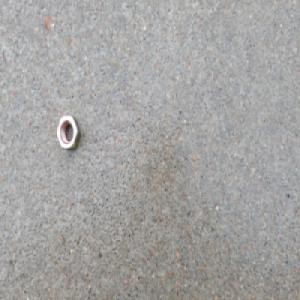Nut: (57, 113, 81, 152)
